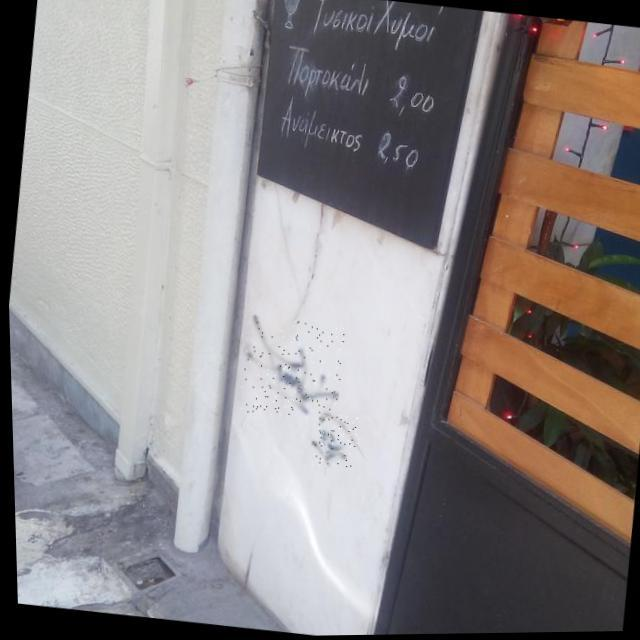-: (234, 314, 345, 423), (308, 412, 357, 472)
